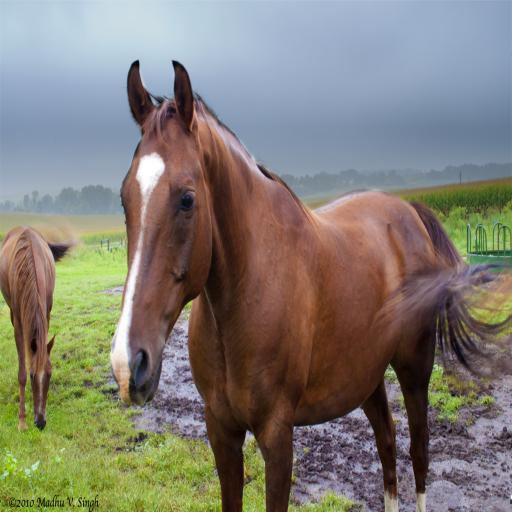horse: (110, 58, 510, 510), (0, 224, 57, 435)
